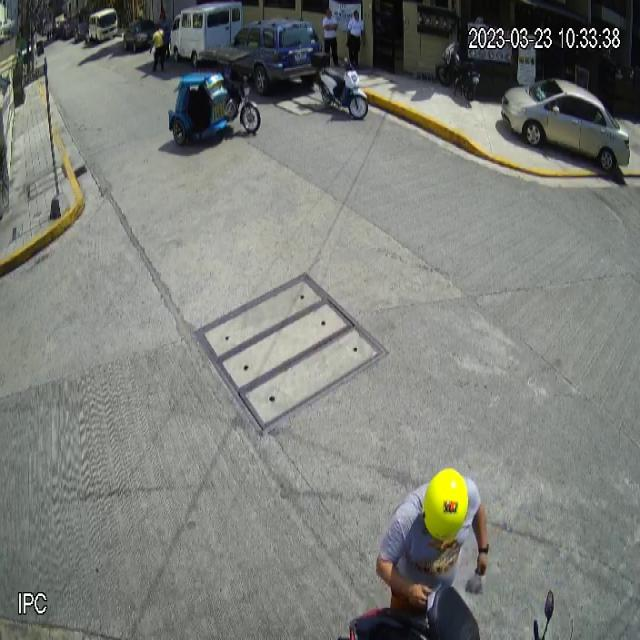Car: (501, 77, 632, 172), (216, 18, 322, 96)
Motorcycle: (311, 51, 370, 120)
Tricycle: (167, 44, 262, 148)
Van: (170, 1, 244, 70)
